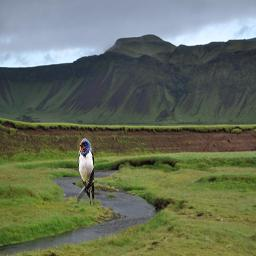Swallow: (78, 139, 95, 208)
